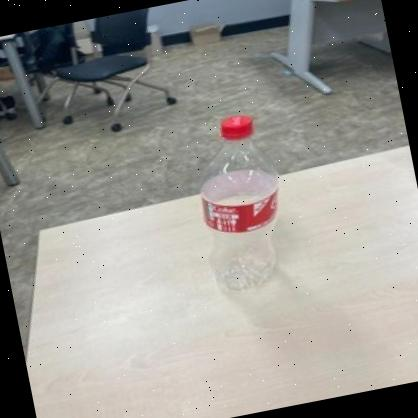bottle: (181, 107, 304, 306)
cap: (218, 112, 254, 141)
label: (194, 177, 296, 243)
